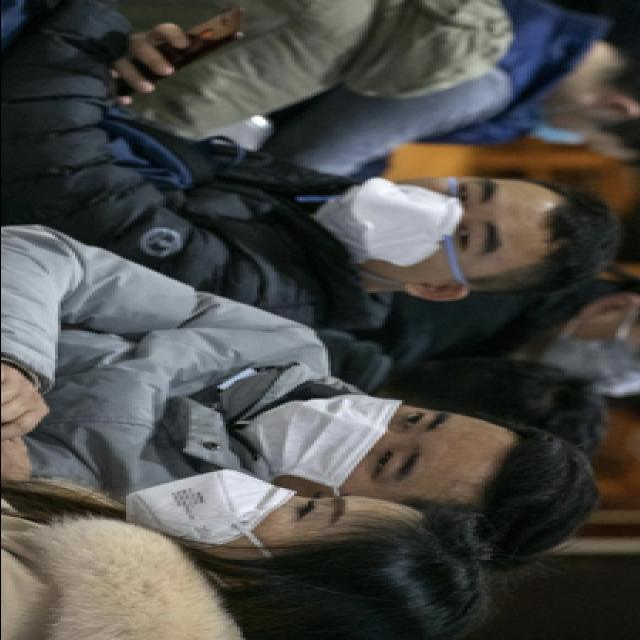mask: (242, 388, 458, 486), (117, 462, 356, 546), (316, 176, 506, 269), (521, 318, 640, 395), (495, 98, 611, 152)
